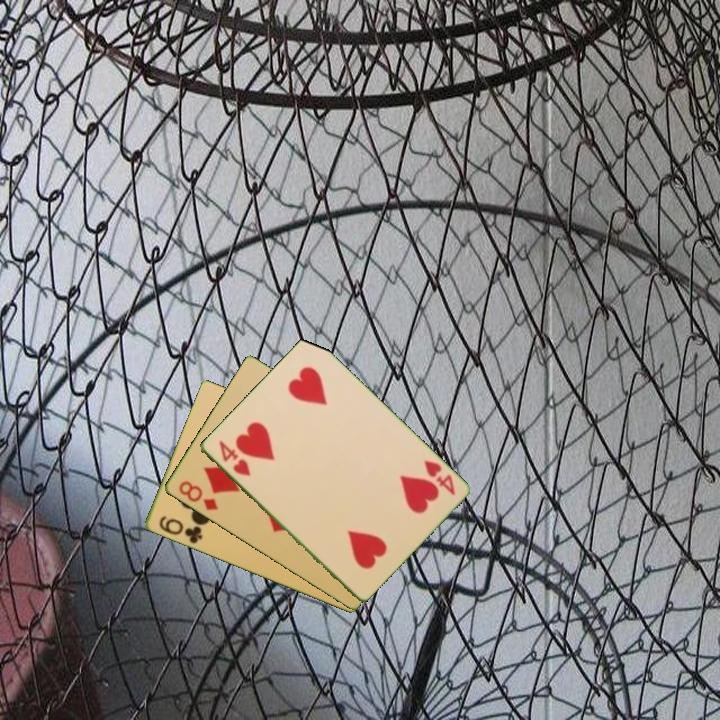4h: (214, 437, 253, 479), (420, 456, 458, 498)
6c: (155, 512, 205, 547)
8d: (175, 477, 221, 513)
